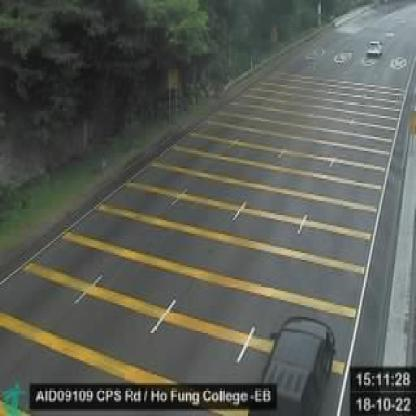Car: (243, 318, 336, 413), (365, 38, 384, 59)
